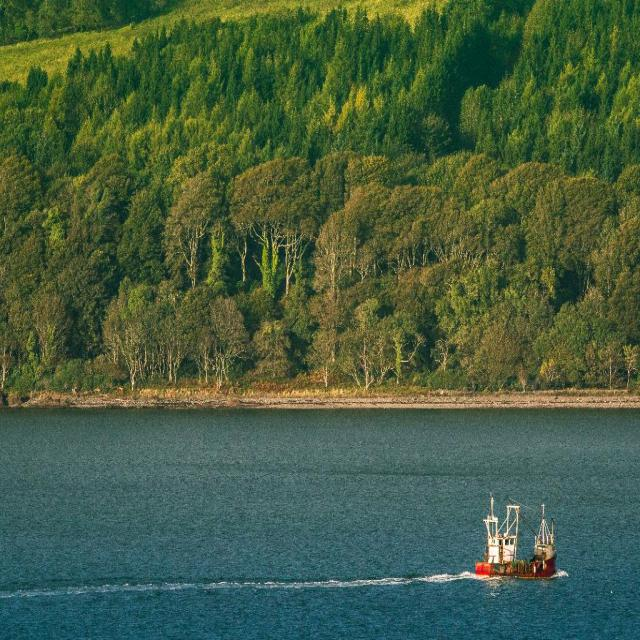Boat: (471, 499, 564, 595)
